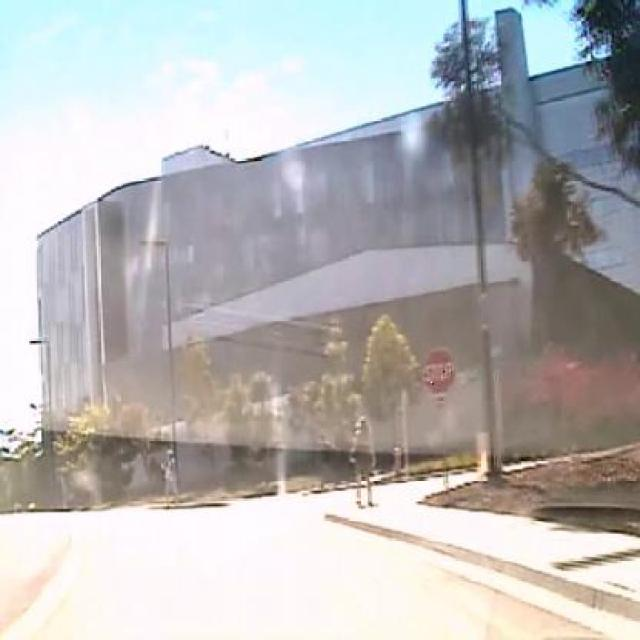stop: (422, 348, 456, 394)
